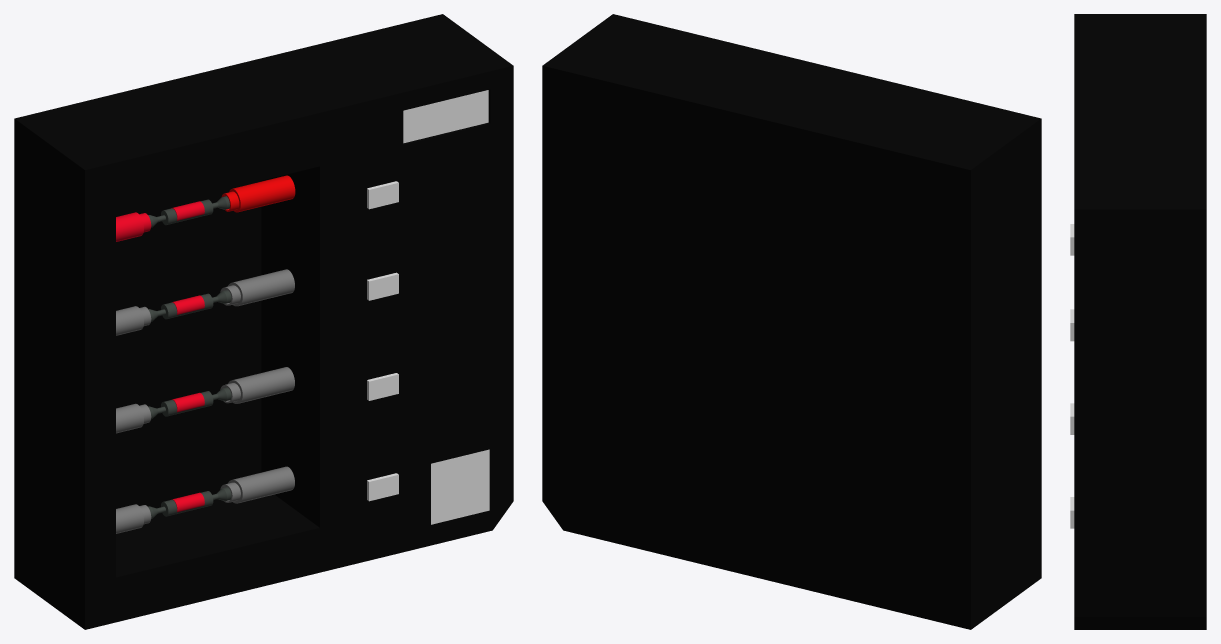
The model's file is Fusibles salida.fbx.
3 views of the same model, side by side, from view 1: azimuth 30°, elevation 25°; view 2: azimuth 150°, elevation 25°; view 3: azimuth 270°, elevation 25° (orthographic). The views are drawn at different scales.
Parts seen in each view (by area): view 1: Caja, Plane, Caja.001, Aros.005, Aros.007, Aros.008, Aros.006, Cylinder.003, Cylinder.001, Cylinder.002, Cylinder, Aros.002 (+7 smaller); view 2: Caja; view 3: Caja.
Part boxes in pixels (x1,y1,x2,y2): Caja: [14, 14, 513, 629]; Plane: [431, 449, 489, 524]; Caja.001: [403, 90, 488, 143]; Aros.005: [221, 175, 295, 212]; Aros.007: [220, 367, 294, 403]; Aros.008: [220, 466, 294, 503]; Aros.006: [220, 269, 294, 306]; Cylinder.003: [148, 487, 231, 519]; Cylinder.001: [148, 290, 231, 321]; Cylinder.002: [148, 387, 231, 419]; Cylinder: [148, 196, 229, 227]; Aros.002: [116, 306, 151, 335]; Caja: [542, 14, 1041, 629]; Caja: [1074, 14, 1206, 629].
Bounding box in the file's own units: 433 × 444 × 127.
